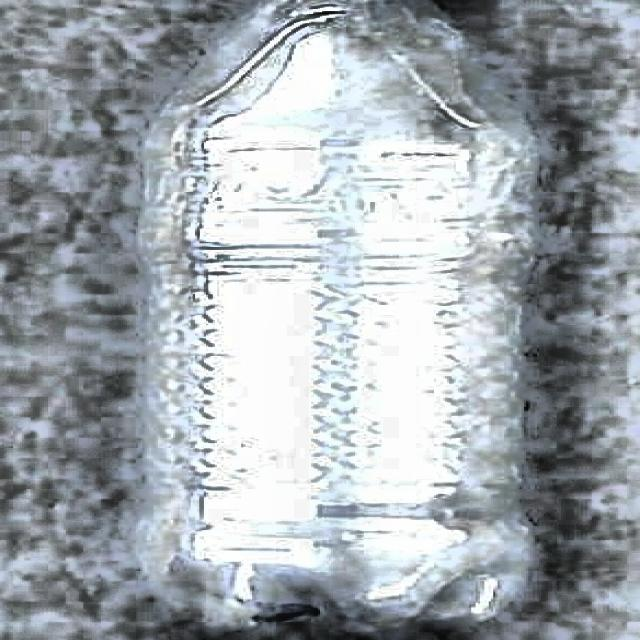plastic: (125, 0, 557, 639)
